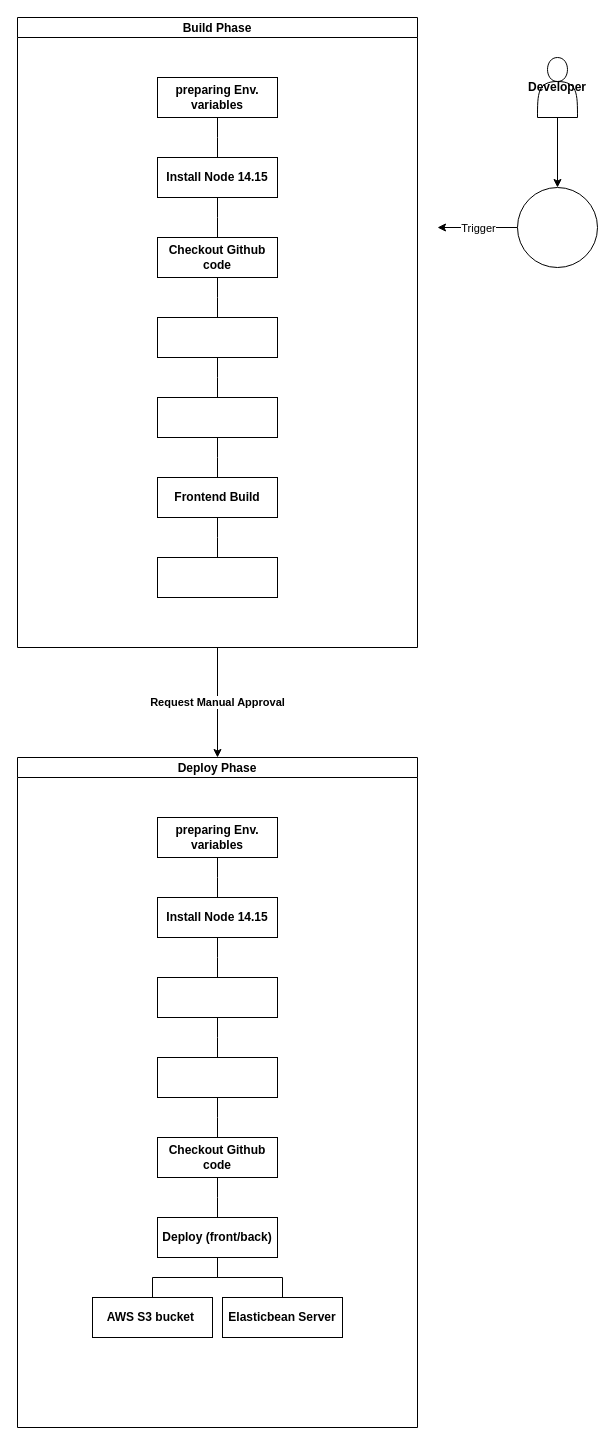
Some shapes in this 615 by 1445 pixel diagram are drawn without their labels. Each missing label, with the centre of its shape:
"Backend Build" goes at [217,577].
"Configuring Access key" goes at [217,1077].
"Frontend Lint" goes at [217,417].
"GITHUB" goes at [557,227].
"Install Frontend/backend Dependencies" goes at [217,337].
"setup EB/AWS" goes at [217,997].
